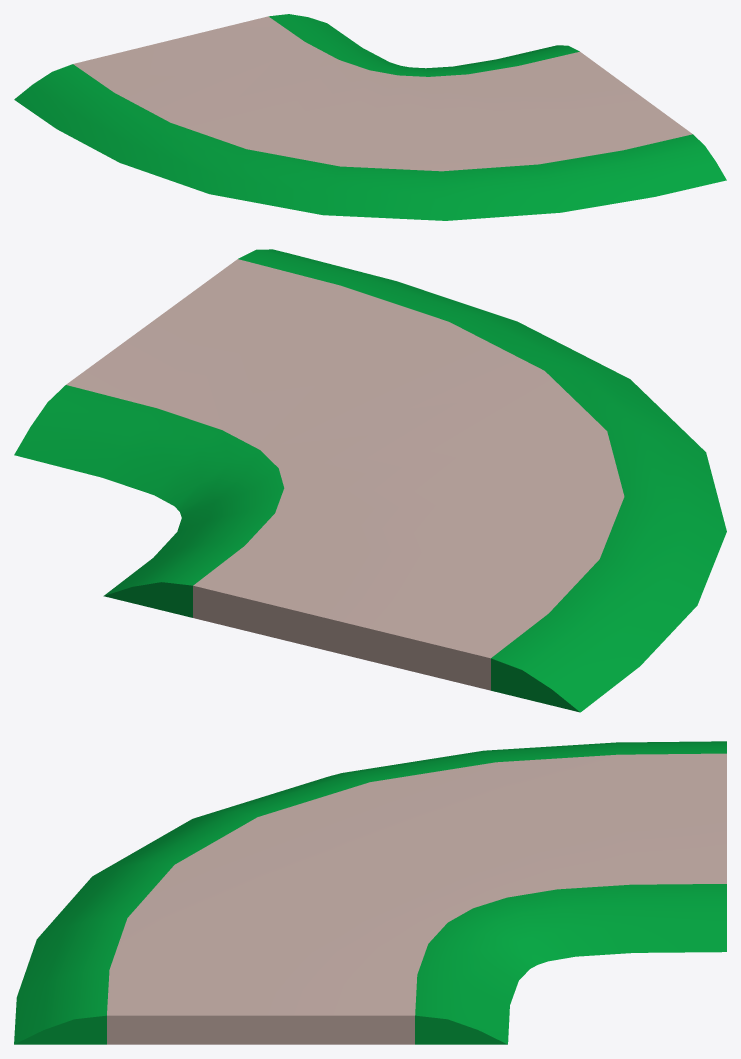
File: Farm_15_Path_2.glb
The picture shows the model from 3 angles, top to bottom: view 1: azimuth 30°, elevation 25°; view 2: azimuth 150°, elevation 25°; view 3: azimuth 270°, elevation 25°; orthographic projection. The views are drawn at different scales.
Visible parts, largest first — view 1: Farm_15_Path_2; view 2: Farm_15_Path_2; view 3: Farm_15_Path_2.
Part boxes in pixels (box(x1,y1,x2,y2)): Farm_15_Path_2: box(14, 14, 726, 220); Farm_15_Path_2: box(14, 249, 726, 712); Farm_15_Path_2: box(14, 741, 726, 1044).
Size of the model in its own units: 2.33 by 0.1046 by 2.33.
1 material, 1 textured.
